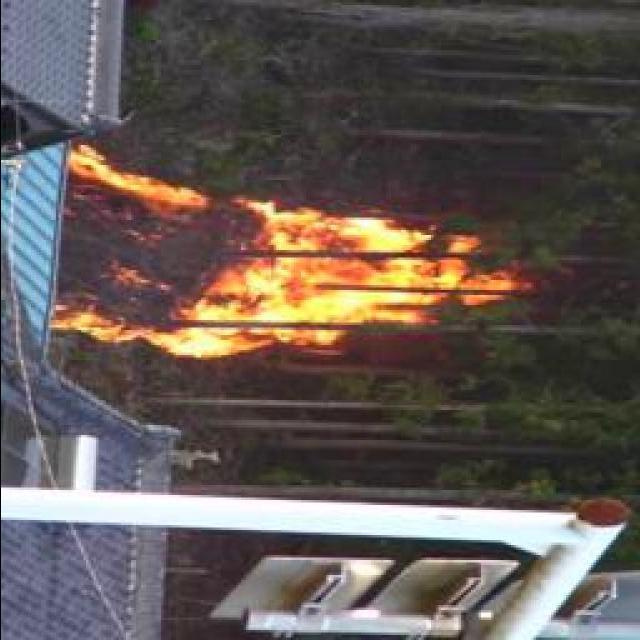Fire: (55, 149, 508, 363)
